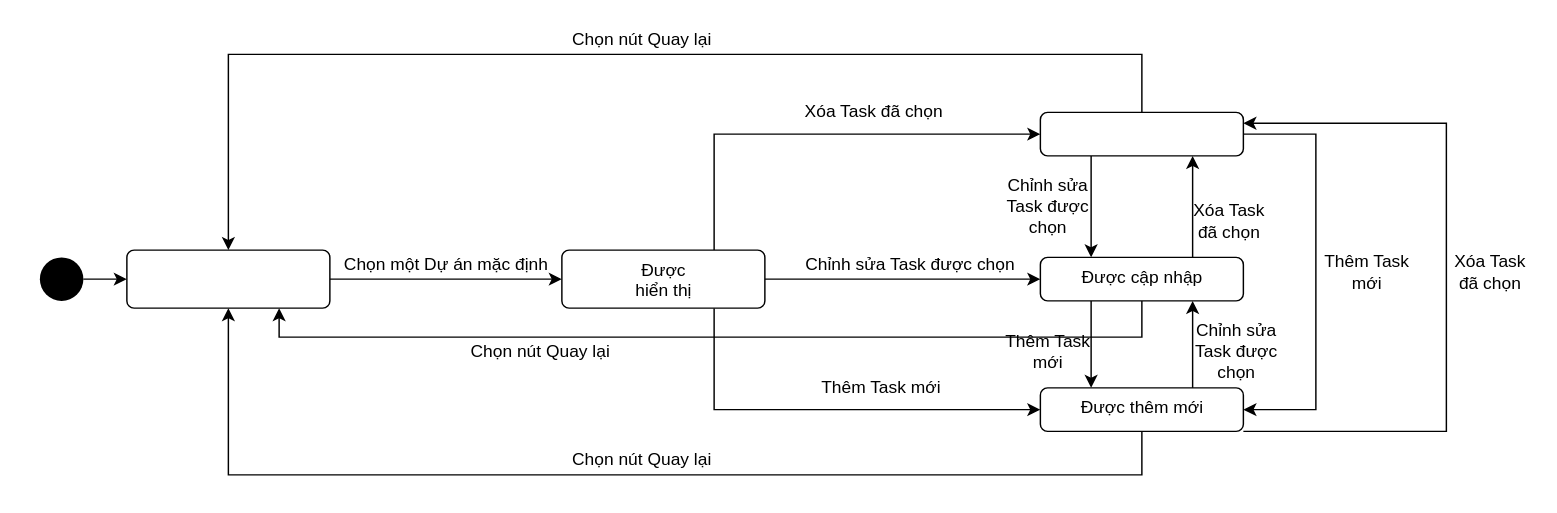
The diagram is 1557 pixels wide and 513 high, and some of its shapes have lost their labels. The shapes that lost their labels are listed below. From the top down, each one's centre as x and y in pixels, then its label:
At (1141,133): "Đã xóa.".
At (227,278): "Chờ ngoài Trang chủ".
